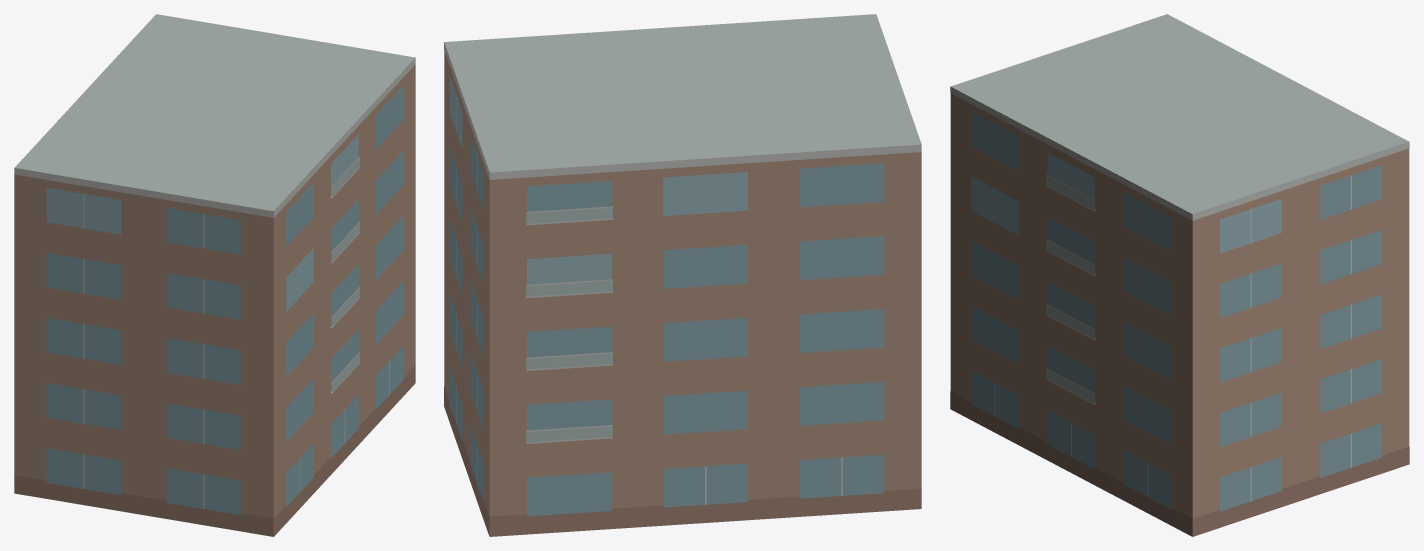
File: survey-upis-32646720.glb
3 renders of one model, left to right at view 1: azimuth 30°, elevation 25°; view 2: azimuth 150°, elevation 25°; view 3: azimuth 270°, elevation 25°, orthographic. The views are drawn at different scales.
Parts seen in each view (by area): view 1: survey-upis-32646720.tmp; view 2: survey-upis-32646720.tmp; view 3: survey-upis-32646720.tmp.
Part boxes in pixels (x1=…): survey-upis-32646720.tmp: x1=14, y1=14, x2=415, y2=536; survey-upis-32646720.tmp: x1=444, y1=14, x2=921, y2=536; survey-upis-32646720.tmp: x1=950, y1=14, x2=1409, y2=536.
Size of the model in its own units: 16.05 by 12.05 by 15.54.
